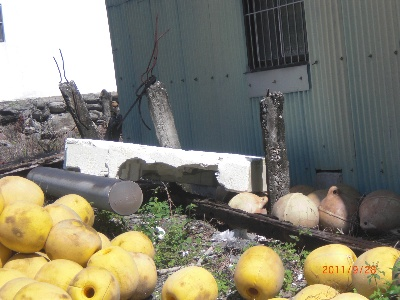styrofoam: (63, 138, 268, 196)
